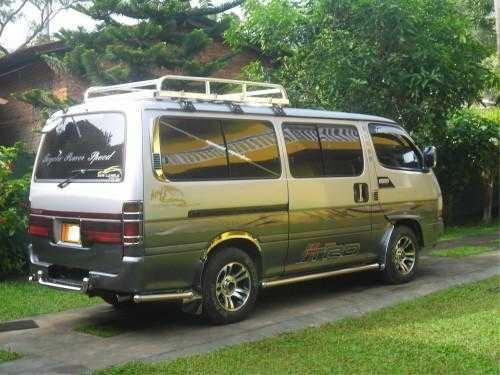car: (25, 93, 443, 322)
